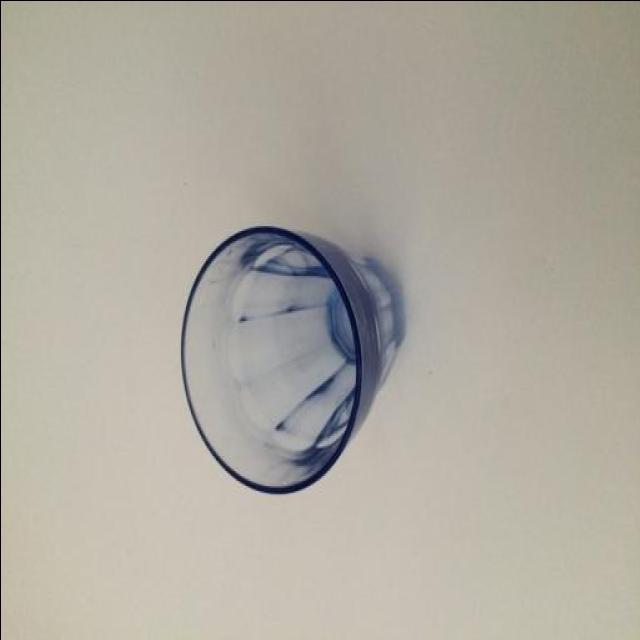glass: (176, 226, 402, 500)
